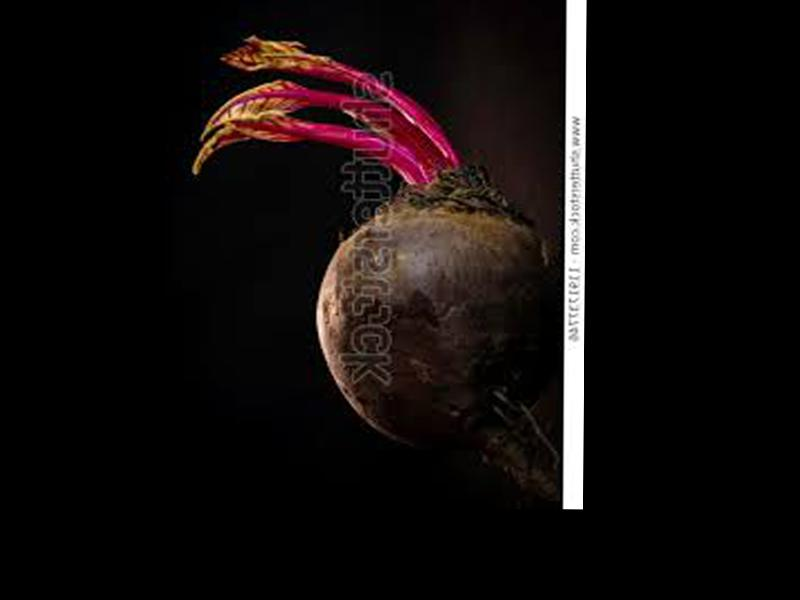Beet: (190, 36, 564, 509)
